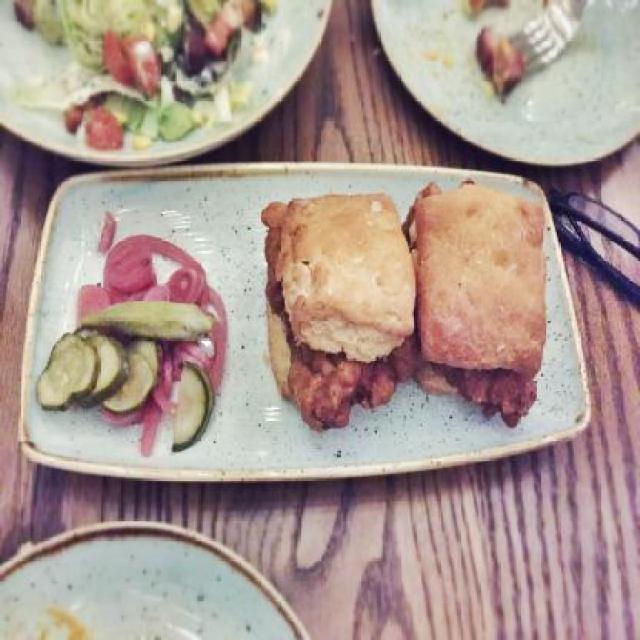Sandwich: (260, 192, 418, 431), (410, 176, 546, 430)
